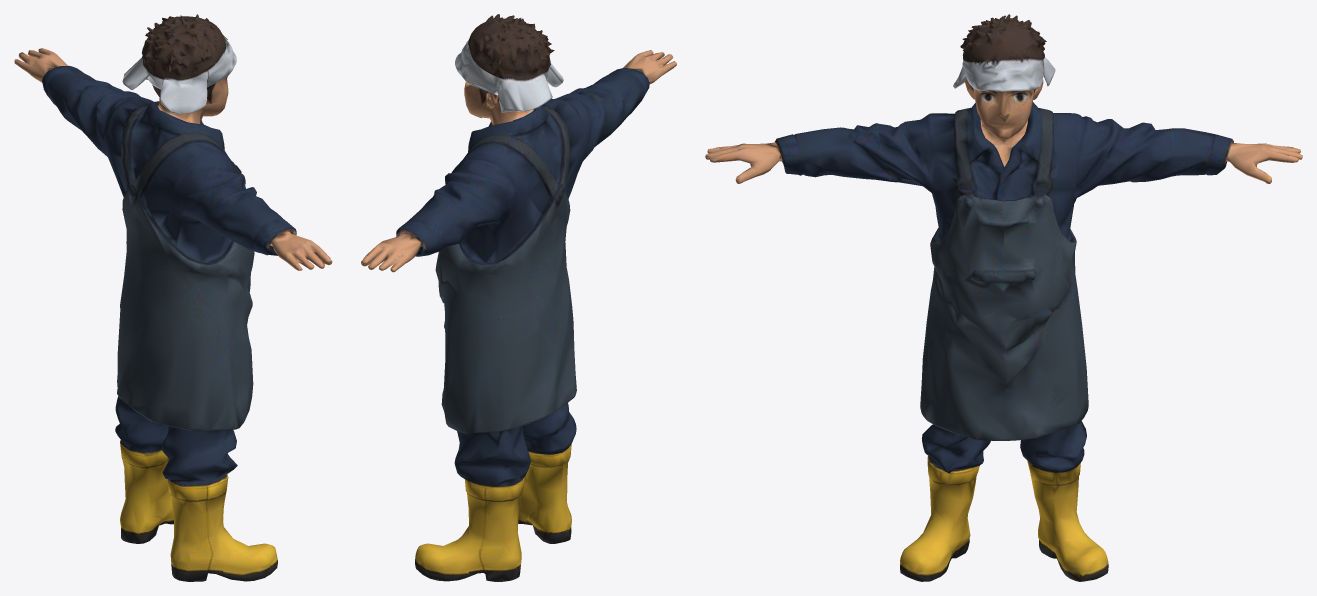
File: fisher.glb
The picture shows the model from 3 angles, left to right: view 1: azimuth 30°, elevation 25°; view 2: azimuth 150°, elevation 25°; view 3: azimuth 270°, elevation 25°; orthographic projection. The views are drawn at different scales.
Parts seen in each view (by area): view 1: tripo_node_3e3e6322-65ad-423a-9290-68f25c7f6c98; view 2: tripo_node_3e3e6322-65ad-423a-9290-68f25c7f6c98; view 3: tripo_node_3e3e6322-65ad-423a-9290-68f25c7f6c98.
Boxes of the visible parts, left/top/right/bottom form: tripo_node_3e3e6322-65ad-423a-9290-68f25c7f6c98: left=14, top=14, right=332, bottom=581; tripo_node_3e3e6322-65ad-423a-9290-68f25c7f6c98: left=361, top=14, right=676, bottom=581; tripo_node_3e3e6322-65ad-423a-9290-68f25c7f6c98: left=705, top=14, right=1302, bottom=581.
Bounding box in the file's own units: 0.2265 × 0.9996 × 0.9942.
1 material, 1 textured.
